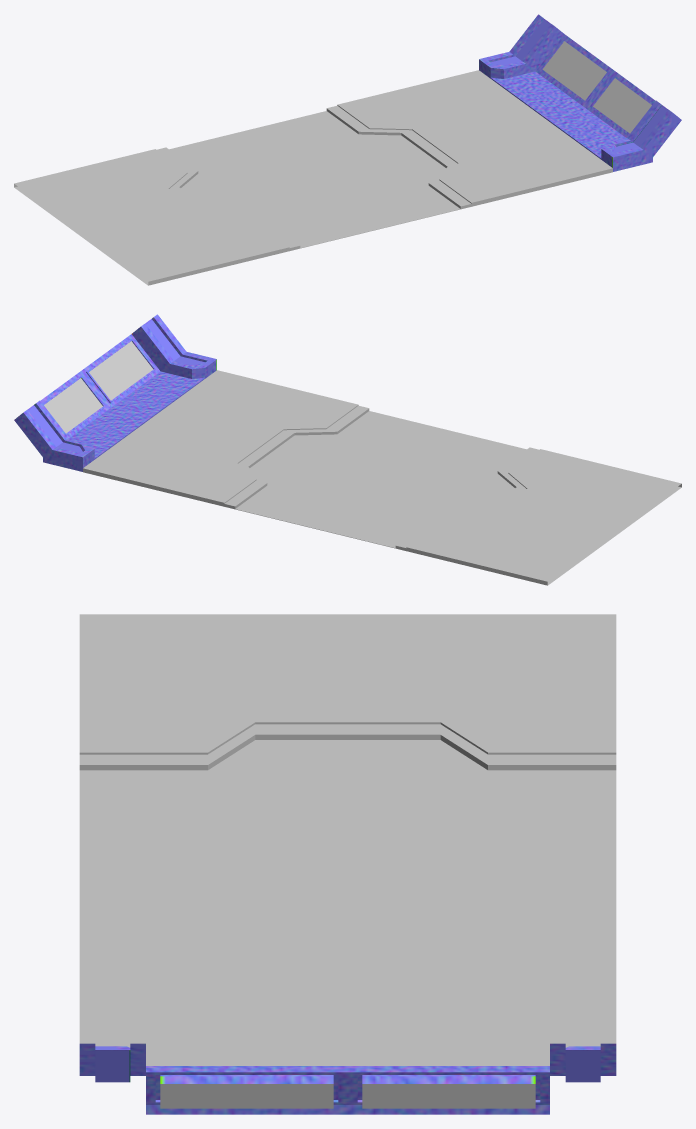
Rendered from Section_1 (1).fbx.
3 views of the same model, one above another, from view 1: azimuth 30°, elevation 25°; view 2: azimuth 150°, elevation 25°; view 3: azimuth 270°, elevation 25° (orthographic). The views are drawn at different scales.
Parts seen in each view (by area): view 1: floor_2_blank, window_big_no_LOD; view 2: floor_2_blank, window_big_no_LOD; view 3: floor_2_blank, window_big_no_LOD.
Boxes of the visible parts, x1,y1,x2,y2 form: floor_2_blank: (14, 70, 612, 285); window_big_no_LOD: (479, 14, 681, 171); floor_2_blank: (83, 370, 681, 585); window_big_no_LOD: (14, 314, 216, 471); floor_2_blank: (79, 614, 616, 1065); window_big_no_LOD: (79, 1043, 616, 1114).
Size of what is drawn, in the model's own units: 2297 by 186 by 1000.
